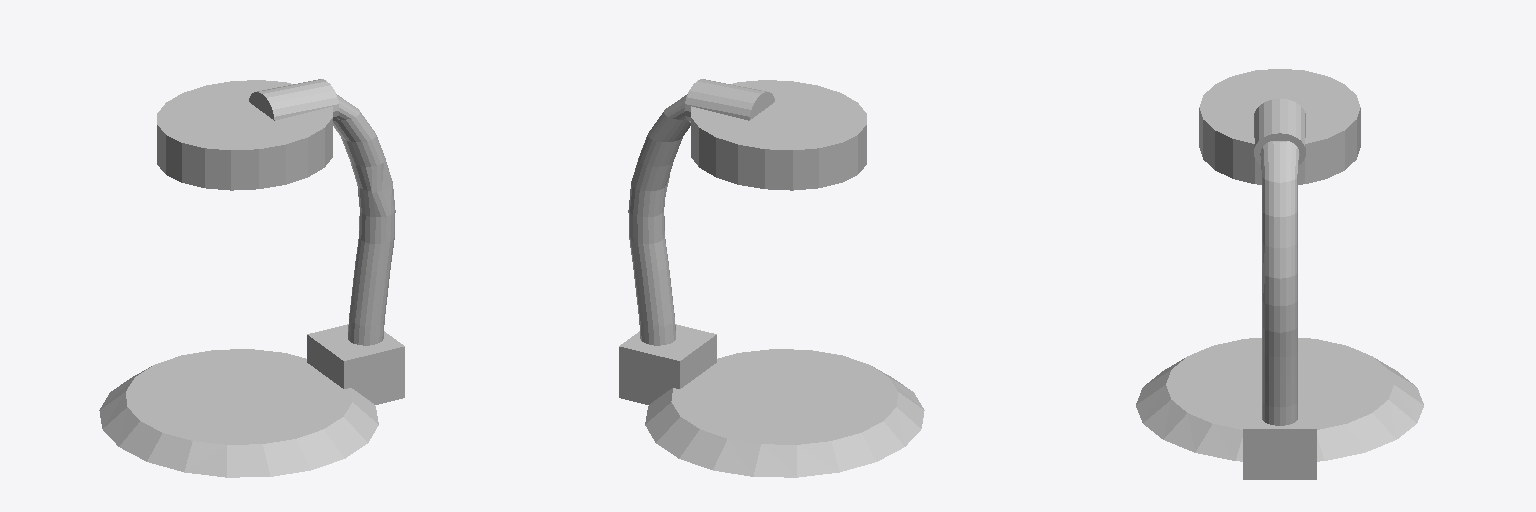
The model's file is Teleporter1_OBJ.obj.
3 renders of one model, left to right at view 1: azimuth 30°, elevation 25°; view 2: azimuth 150°, elevation 25°; view 3: azimuth 270°, elevation 25°, orthographic.
Parts seen in each view (by area): view 1: Teleporter2; view 2: Teleporter2; view 3: Teleporter2.
Boxes of the visible parts, box(x1,y1,x2,y2) form: Teleporter2: box(99, 79, 404, 477); Teleporter2: box(619, 79, 924, 477); Teleporter2: box(1136, 69, 1423, 479).
Size of the model in its own units: 2.78 by 3.1 by 2.53.